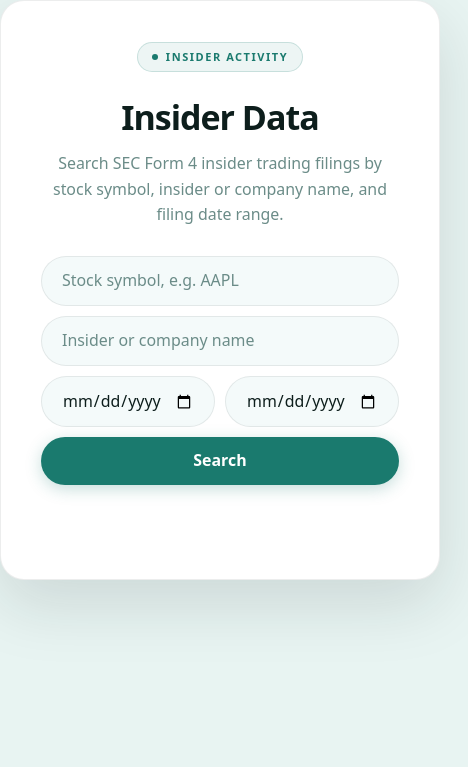
Test: InsiderData › shows the Showing X-Y of Z range for the current page
Type "AAPL" into the field with id "txtInsiderSymbol" at [220, 281], box [41,256,399,306]
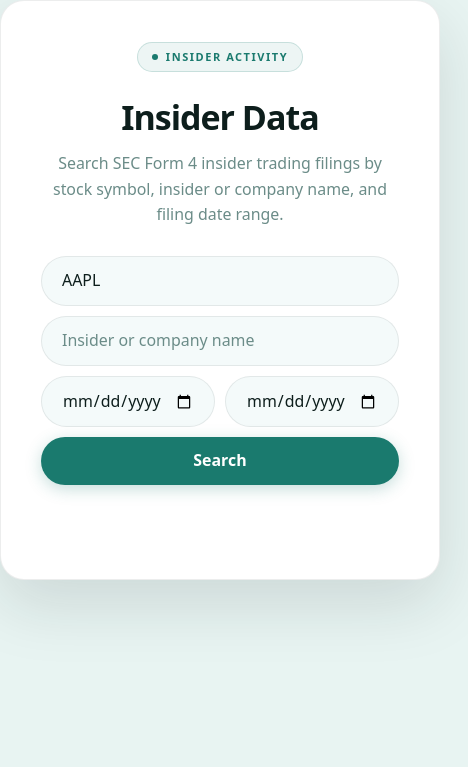
Click the button "Search" at [220, 461], box [41,438,399,485]
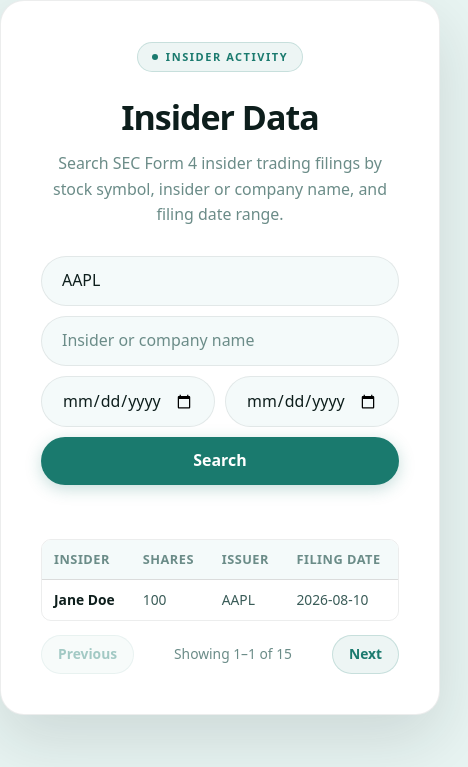
Now the text "Showing 1–1 of 15" is shown, box [174,644,292,665]
